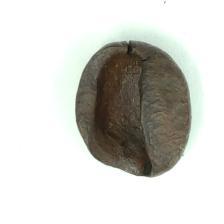NG: (85, 40, 160, 178)
